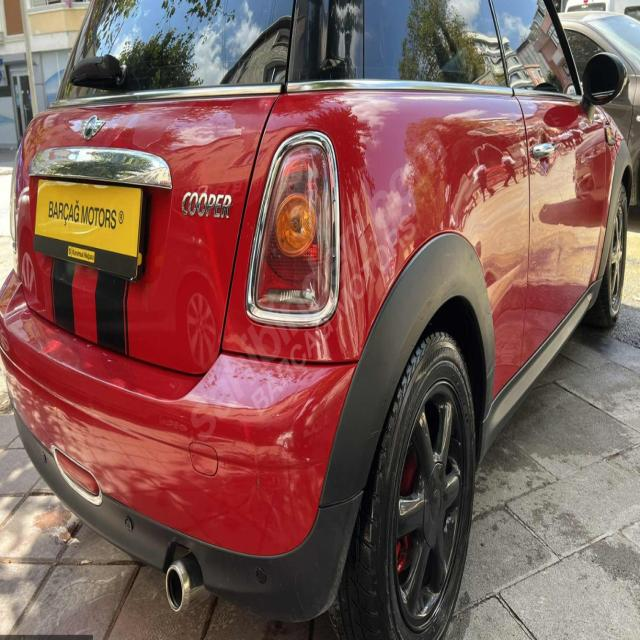mini: (72, 110, 109, 142)
